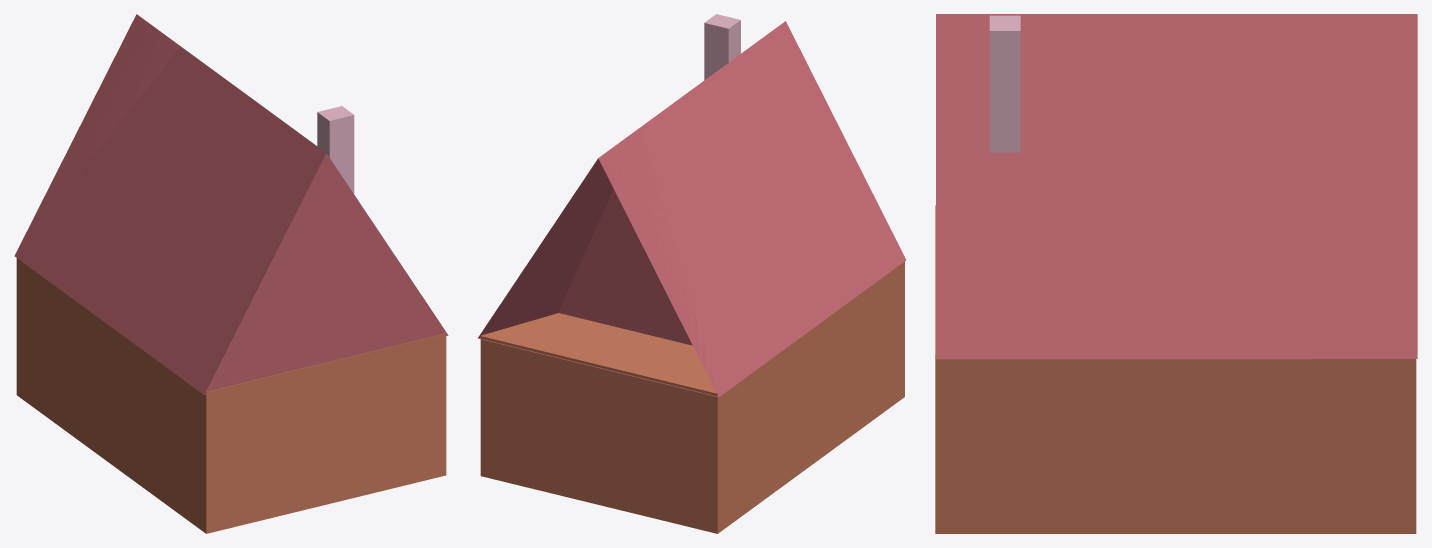
File: Casinha 2.fbx
3 views of the same model, side by side, from view 1: azimuth 30°, elevation 25°; view 2: azimuth 150°, elevation 25°; view 3: azimuth 270°, elevation 25° (orthographic). The views are drawn at different scales.
Parts seen in each view (by area): view 1: Cube.009; view 2: Cube.009; view 3: Cube.009.
Part boxes in pixels (<box>): Cube.009: <box>14,14,448,533</box>; Cube.009: <box>477,14,905,533</box>; Cube.009: <box>935,14,1417,533</box>.
Size of the model in its own units: 1986 by 2810 by 2675.
